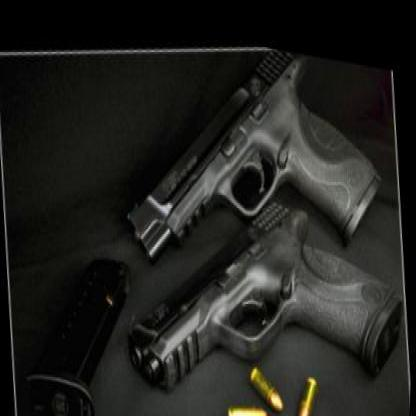pistol: (106, 15, 389, 303), (117, 140, 407, 411)
